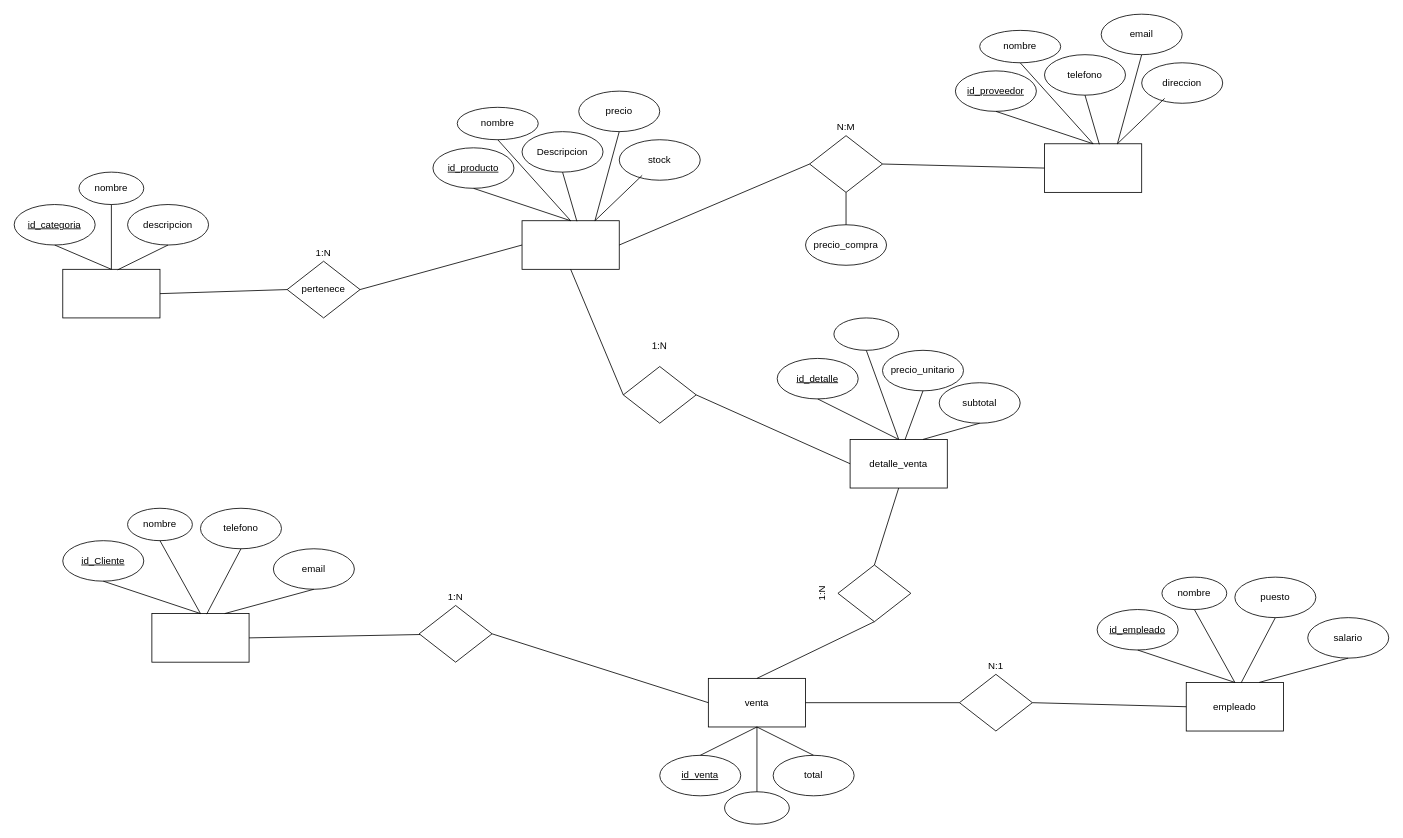
Some shapes in this 1403 by 838 pixel diagram are drawn without their labels. The shapes that lost their labels are listed below. From the top down, each one's centre as x and y in pixels, then its label:
the point at 845,163: suministra
the point at 1093,167: Proveedor
the point at 570,244: Producto
the point at 111,293: categoria
the point at 866,333: cantidad
the point at 659,394: corresponde
the point at 874,593: incluye
the point at 200,637: Cliente
the point at 455,633: realiza
the point at 995,702: atiende
the point at 756,807: fecha
